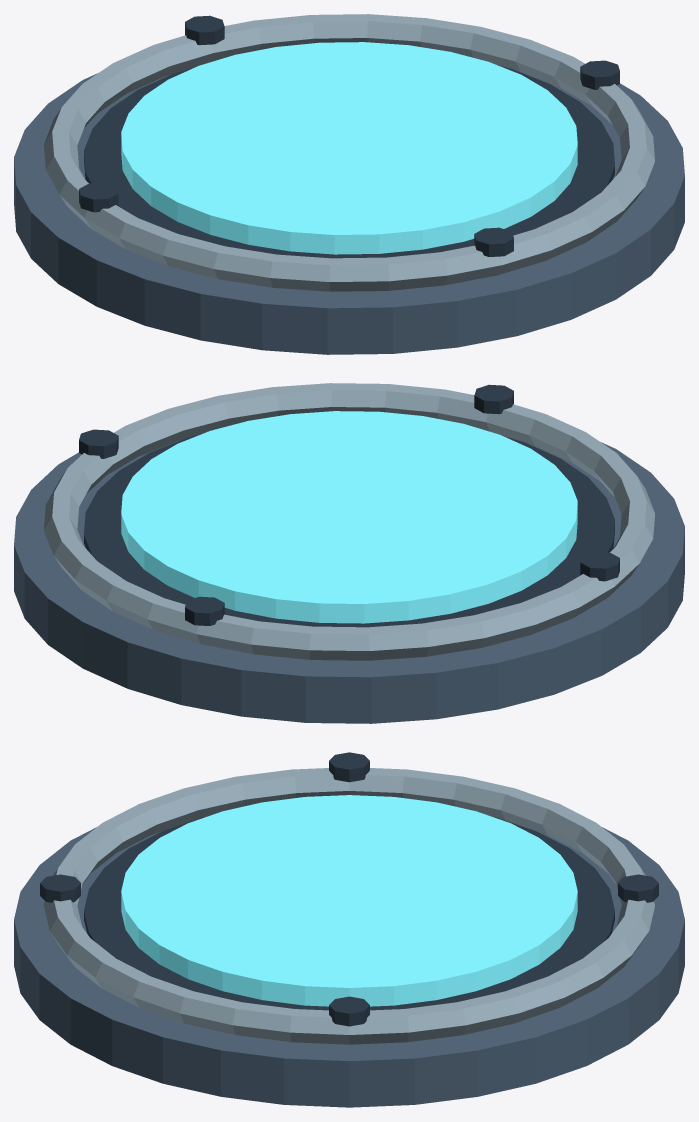
File: energy_node.glb
The picture shows the model from 3 angles, top to bottom: view 1: azimuth 30°, elevation 25°; view 2: azimuth 150°, elevation 25°; view 3: azimuth 270°, elevation 25°; orthographic projection.
Parts seen in each view (by area): view 1: energy_node, NodeLens; view 2: energy_node, NodeLens; view 3: energy_node, NodeLens.
Part boxes in pixels (<box>): energy_node: <box>14,14,684,354</box>; NodeLens: <box>121,42,577,254</box>; energy_node: <box>14,383,684,723</box>; NodeLens: <box>121,411,577,623</box>; energy_node: <box>14,752,684,1107</box>; NodeLens: <box>121,795,577,1006</box>.
Size of the model in its own units: 1.44 by 0.196 by 1.44.
